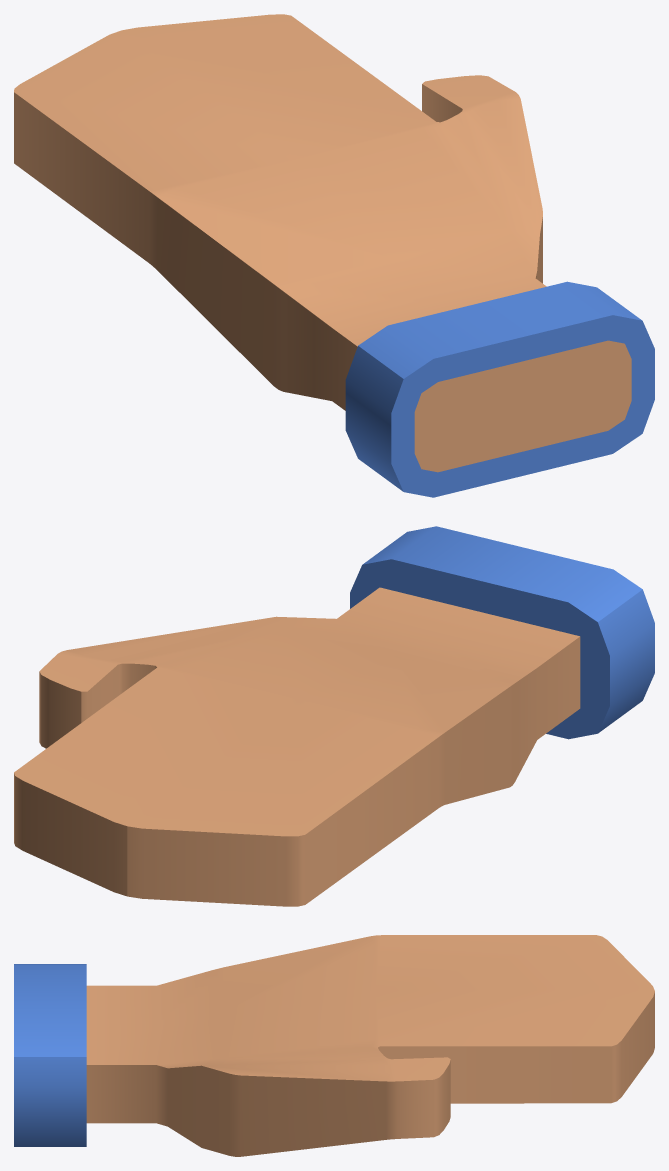
Rendered from Mano_j2_izq.fbx.
3 renders of one model, top to bottom at view 1: azimuth 30°, elevation 25°; view 2: azimuth 150°, elevation 25°; view 3: azimuth 270°, elevation 25°, orthographic. The views are drawn at different scales.
Parts seen in each view (by area): view 1: Cube.011; view 2: Cube.011; view 3: Cube.011.
Boxes of the visible parts, x1,y1,x2,y2 form: Cube.011: (14,14,654,497); Cube.011: (14,526,654,906); Cube.011: (14,935,654,1156).
Size of the model in its own units: 135 by 250 by 51.65.
